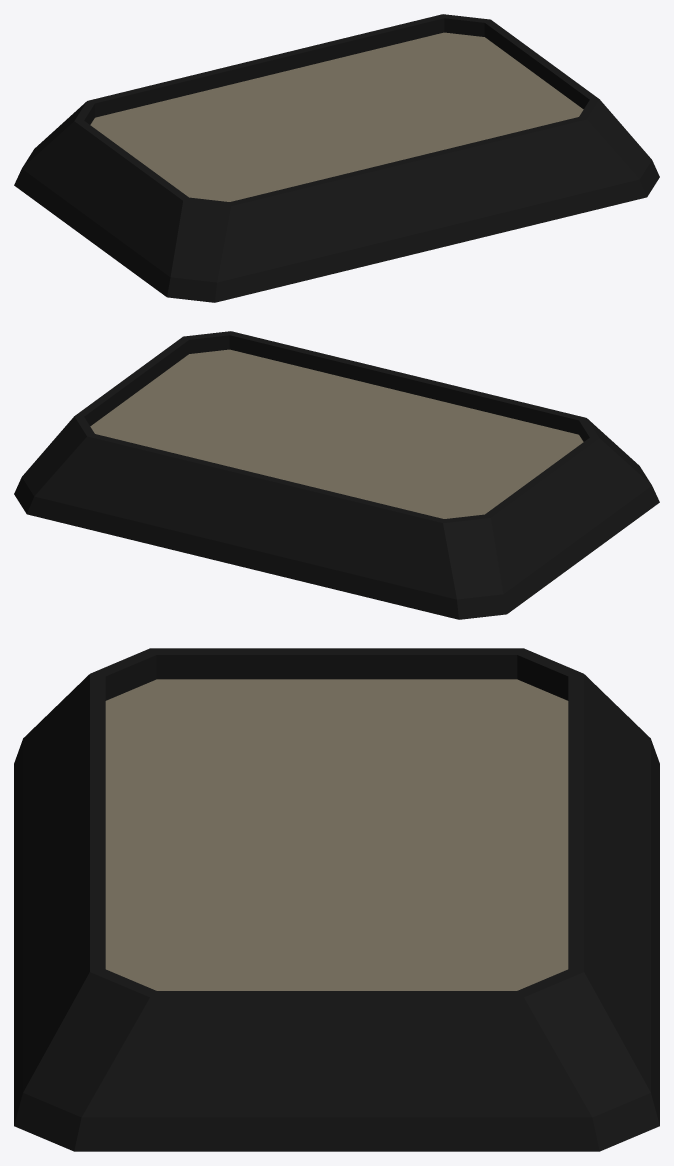
Rendered from SM_rainblock_01.fbx.
3 renders of one model, top to bottom at view 1: azimuth 30°, elevation 25°; view 2: azimuth 150°, elevation 25°; view 3: azimuth 270°, elevation 25°, orthographic. The views are drawn at different scales.
Visible parts, largest first — view 1: rainblock_01; view 2: rainblock_01; view 3: rainblock_01.
Boxes of the visible parts, x1,y1,x2,y2 form: rainblock_01: [14, 14, 659, 302]; rainblock_01: [14, 331, 659, 619]; rainblock_01: [14, 648, 659, 1151].
Size of the model in its own units: 343 by 47.3 by 227.
